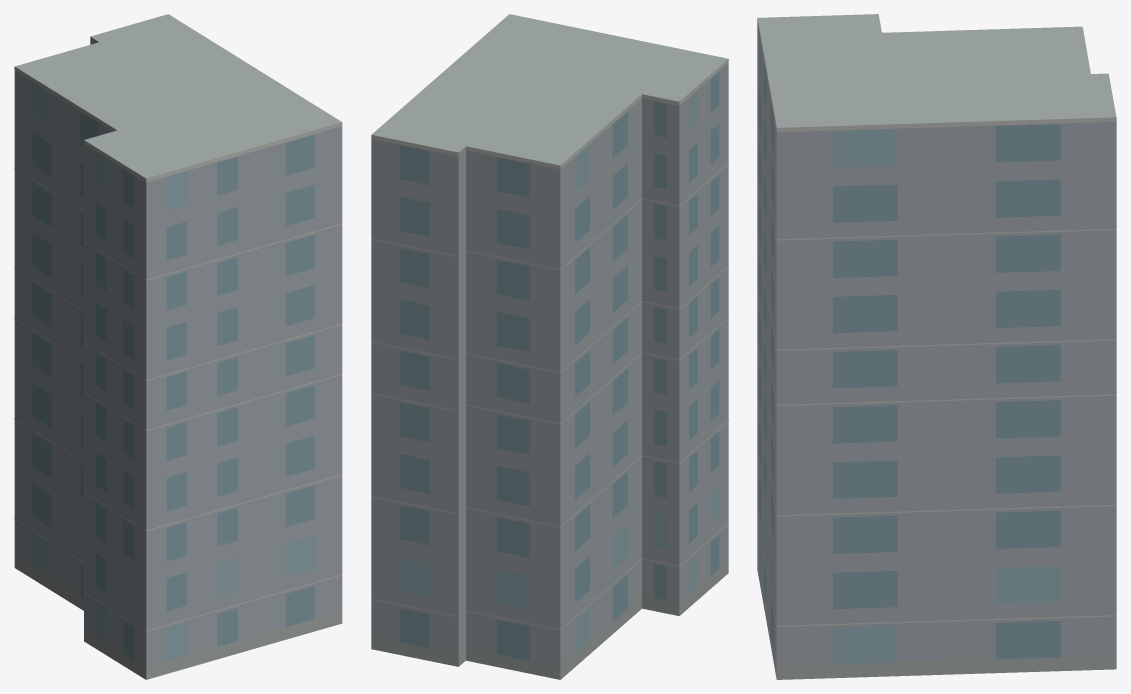
The model's file is residential-fa50938e-d230-41ba-8dd0-f69a50c54c65.glb.
The picture shows the model from 3 angles, left to right: view 1: azimuth 30°, elevation 25°; view 2: azimuth 150°, elevation 25°; view 3: azimuth 270°, elevation 25°; orthographic projection. The views are drawn at different scales.
Parts seen in each view (by area): view 1: residential-fa50938e-d230-41ba-8dd0-f69a50c54c65.tmp; view 2: residential-fa50938e-d230-41ba-8dd0-f69a50c54c65.tmp; view 3: residential-fa50938e-d230-41ba-8dd0-f69a50c54c65.tmp.
Part boxes in pixels (bbox=[...]): residential-fa50938e-d230-41ba-8dd0-f69a50c54c65.tmp: bbox=[14, 14, 342, 679]; residential-fa50938e-d230-41ba-8dd0-f69a50c54c65.tmp: bbox=[371, 14, 728, 679]; residential-fa50938e-d230-41ba-8dd0-f69a50c54c65.tmp: bbox=[757, 14, 1116, 679].
Bounding box in the file's own units: 13.52 × 30.5 × 18.01.
